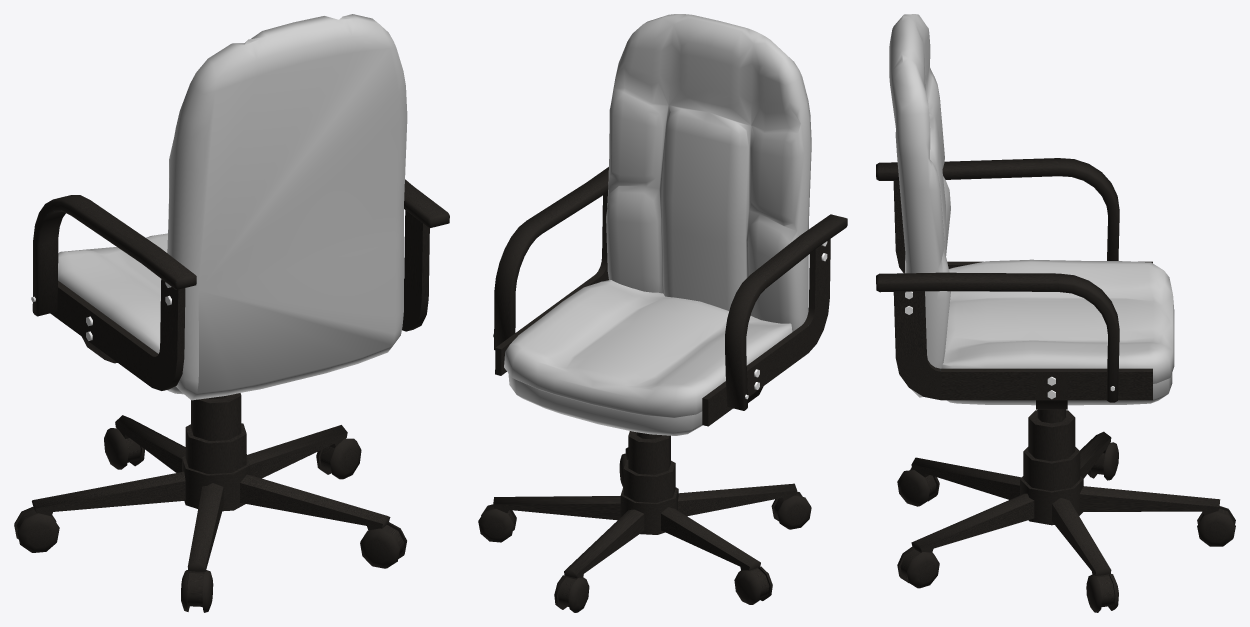
File: Office Chair.fbx
3 renders of one model, left to right at view 1: azimuth 30°, elevation 25°; view 2: azimuth 150°, elevation 25°; view 3: azimuth 270°, elevation 25°, orthographic. The views are drawn at different scales.
Visible parts, largest first — view 1: Chair LOD0, Wheel LOD0; view 2: Chair LOD0, Wheel LOD0; view 3: Chair LOD0, Wheel LOD0.
Boxes of the visible parts, x1,y1,x2,y2 form: Chair LOD0: (31,14,449,400); Wheel LOD0: (14,393,406,612); Chair LOD0: (493,14,847,439); Wheel LOD0: (478,431,811,612); Chair LOD0: (876,14,1174,423); Wheel LOD0: (897,410,1235,612).
Size of what is drawn, in the model's own units: 140 by 222 by 142.
